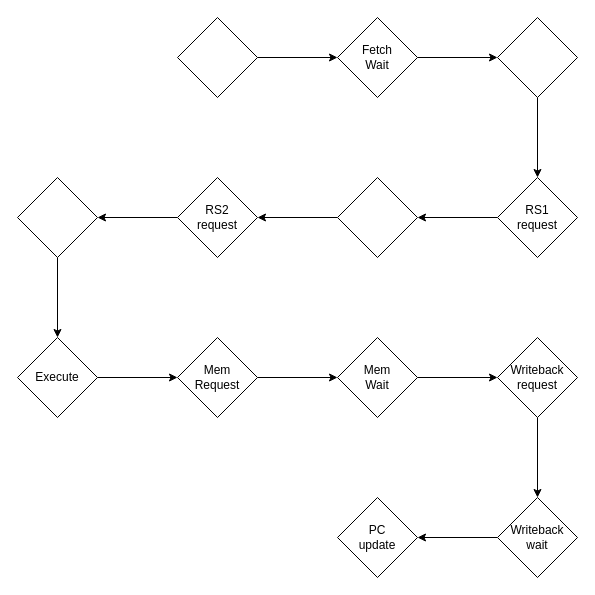
Image size: 595x595. Some labels were removed from this diagram. The box of each missing label's shape, as (x1, y1, x2, y2) in pixels:
Decode: (496, 16, 578, 98)
Fetch Request: (176, 16, 258, 98)
RS1 wait: (336, 176, 418, 258)
RS2 wait: (16, 176, 98, 258)
